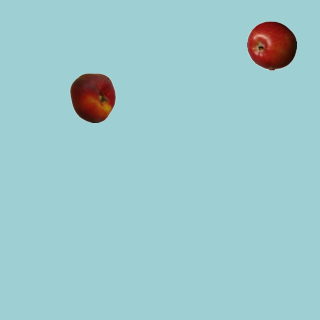Apple Braeburn: (246, 20, 296, 70)
Nectarine Flat: (67, 72, 117, 122)
